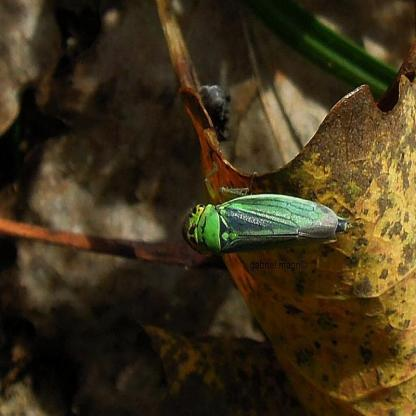Green-Leafhopper: (182, 190, 352, 258)
